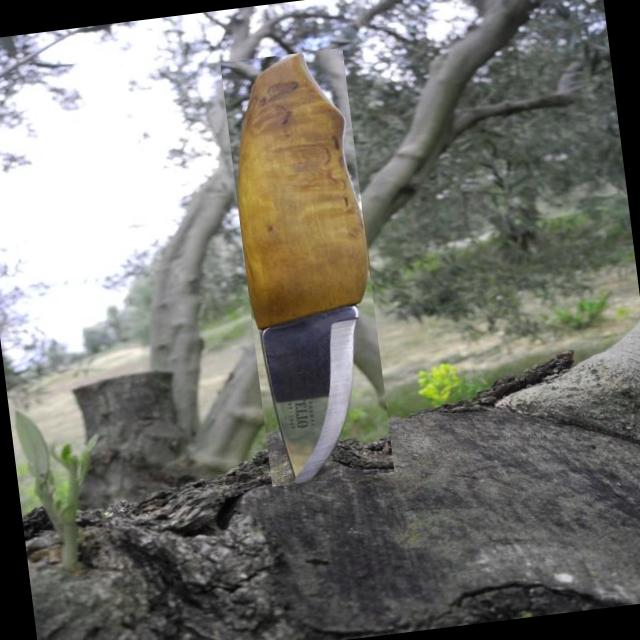Knife: (238, 54, 368, 483)
